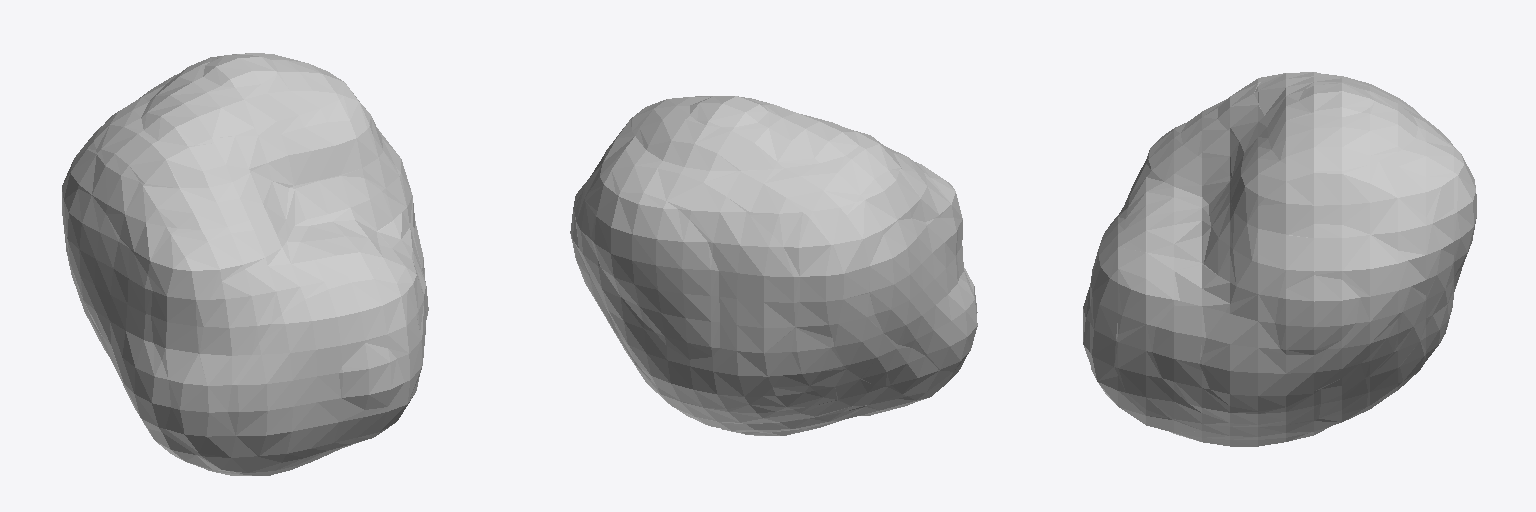
File: 1uej_1_cms.obj
The picture shows the model from 3 angles: view 1: azimuth 30°, elevation 25°; view 2: azimuth 150°, elevation 25°; view 3: azimuth 270°, elevation 25°; orthographic projection.
Bounding box in the file's own units: 57.06 × 58.39 × 60.71.